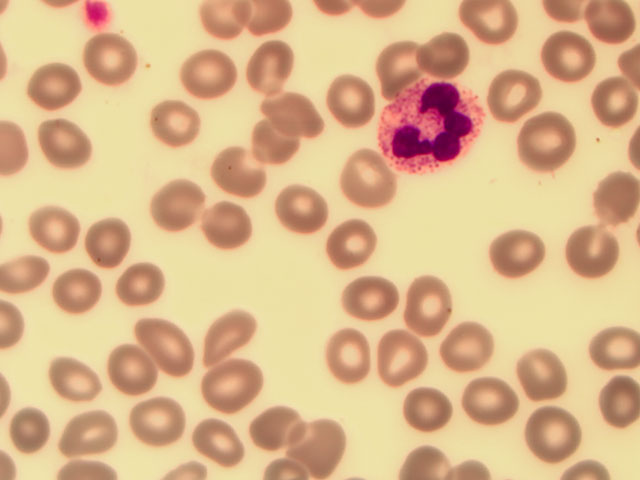Platelets: (86, 2, 110, 26)
RBC: (84, 30, 142, 84), (21, 58, 79, 112), (35, 115, 93, 169), (140, 97, 198, 151), (181, 41, 239, 95), (237, 32, 295, 86), (261, 83, 319, 137), (242, 125, 300, 179), (320, 74, 378, 128), (212, 143, 270, 197), (148, 176, 206, 230), (192, 199, 250, 253), (78, 214, 136, 268), (37, 204, 95, 258), (48, 251, 106, 305), (112, 261, 170, 315), (136, 310, 194, 364), (106, 339, 164, 393), (45, 350, 103, 404), (1, 402, 59, 456), (75, 401, 133, 455), (138, 397, 196, 451), (184, 417, 242, 471), (208, 362, 266, 416), (205, 306, 263, 360), (316, 327, 374, 381), (344, 267, 402, 321), (324, 215, 382, 269), (265, 184, 323, 238), (341, 153, 399, 207), (481, 221, 539, 275), (409, 278, 467, 332), (373, 331, 431, 385), (401, 389, 459, 443), (439, 320, 497, 374), (291, 417, 349, 471), (248, 401, 306, 455), (459, 372, 517, 426), (509, 342, 567, 396), (582, 325, 640, 379), (582, 385, 640, 439), (527, 405, 585, 459), (564, 225, 622, 279), (582, 161, 640, 215), (520, 120, 578, 174), (490, 69, 548, 123), (424, 28, 482, 82), (371, 40, 429, 94), (537, 30, 595, 84), (582, 84, 640, 138), (582, 1, 640, 55), (191, 1, 249, 54), (464, 1, 522, 54)
WBC: (377, 74, 485, 178)
